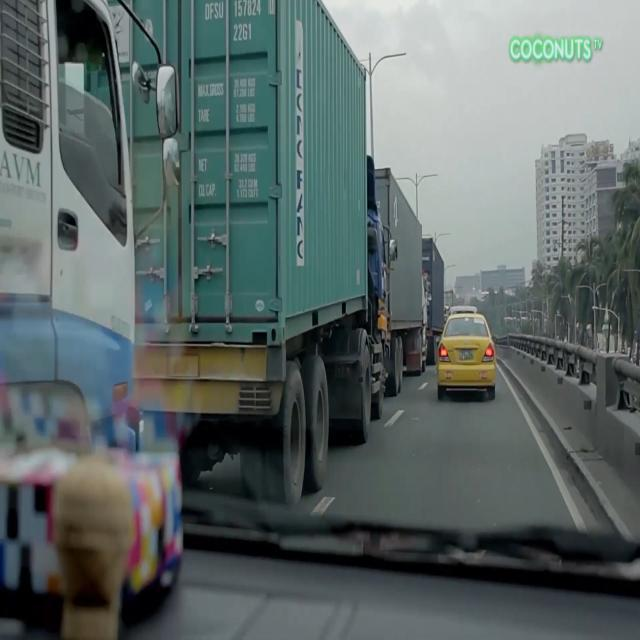truck: (109, 0, 399, 508), (0, 0, 180, 485), (376, 165, 431, 396), (424, 234, 449, 371)
